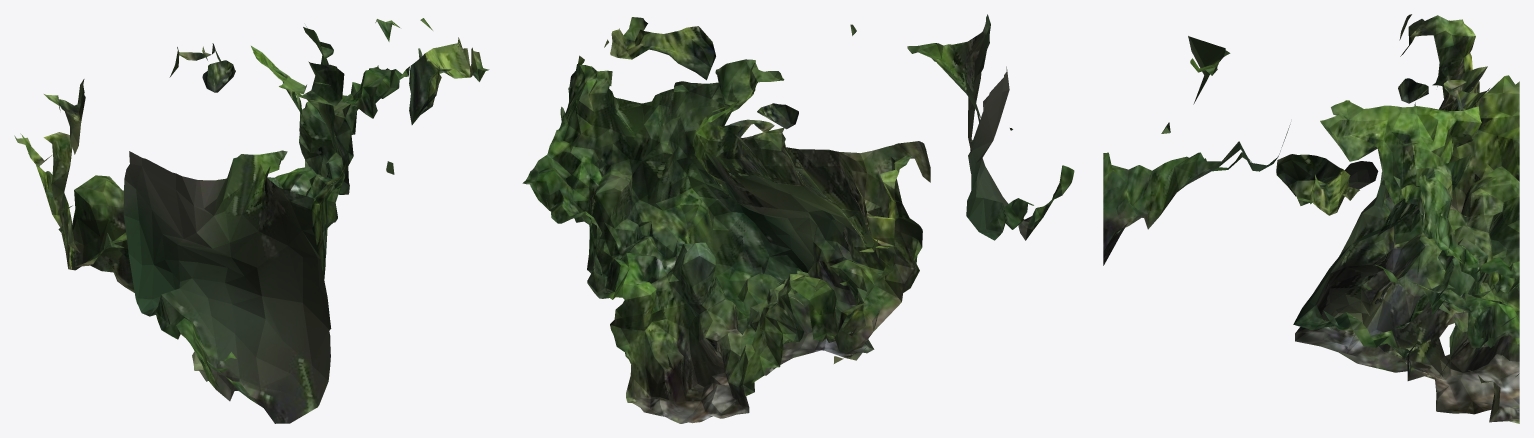
3 renders of one model, left to right at view 1: azimuth 30°, elevation 25°; view 2: azimuth 150°, elevation 25°; view 3: azimuth 270°, elevation 25°, orthographic. The views are drawn at different scales.
Bounding box in the file's own units: 26.11 × 20.52 × 26.11.
5 materials, 5 textured.
